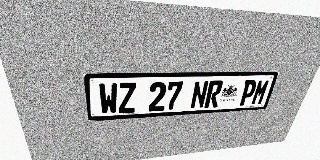2: (148, 82, 167, 112)
7: (165, 81, 183, 111)
M: (250, 79, 271, 105)
N: (190, 81, 209, 109)
P: (238, 80, 258, 106)
R: (204, 80, 224, 108)
W: (98, 83, 118, 115)
Z: (118, 82, 136, 113)
